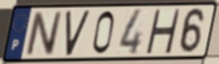0: (92, 9, 115, 56)
4: (118, 7, 144, 56)
6: (178, 6, 207, 56)
H: (144, 8, 182, 55)
N: (24, 10, 63, 57)
V: (64, 8, 92, 57)
